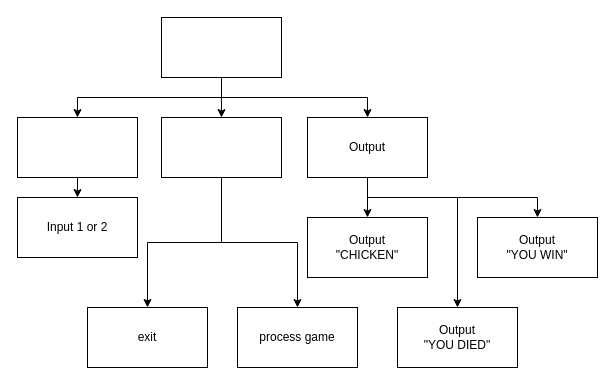
The diagram is 615 pixels wide and 385 high, and some of its shapes have lost their labels. The centre of each missing label's shape, as x and y in pixels:
Input: the point at 77,147
Process: the point at 221,147
Russian Roulette: the point at 221,47
